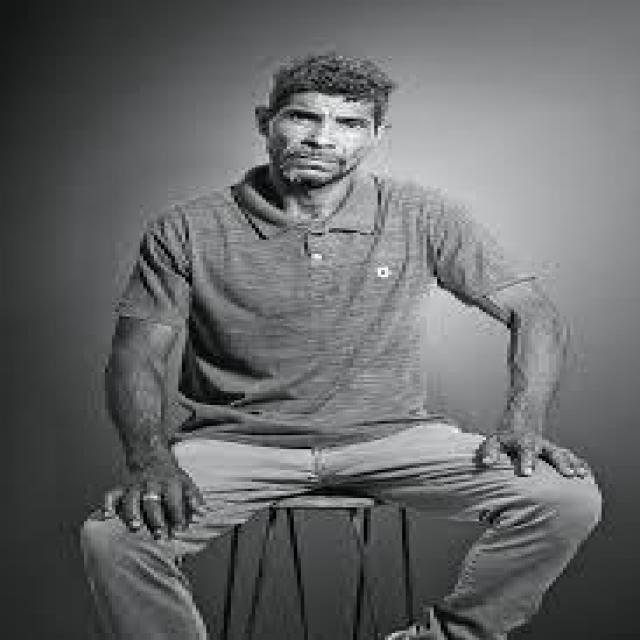person: (66, 53, 605, 638)
